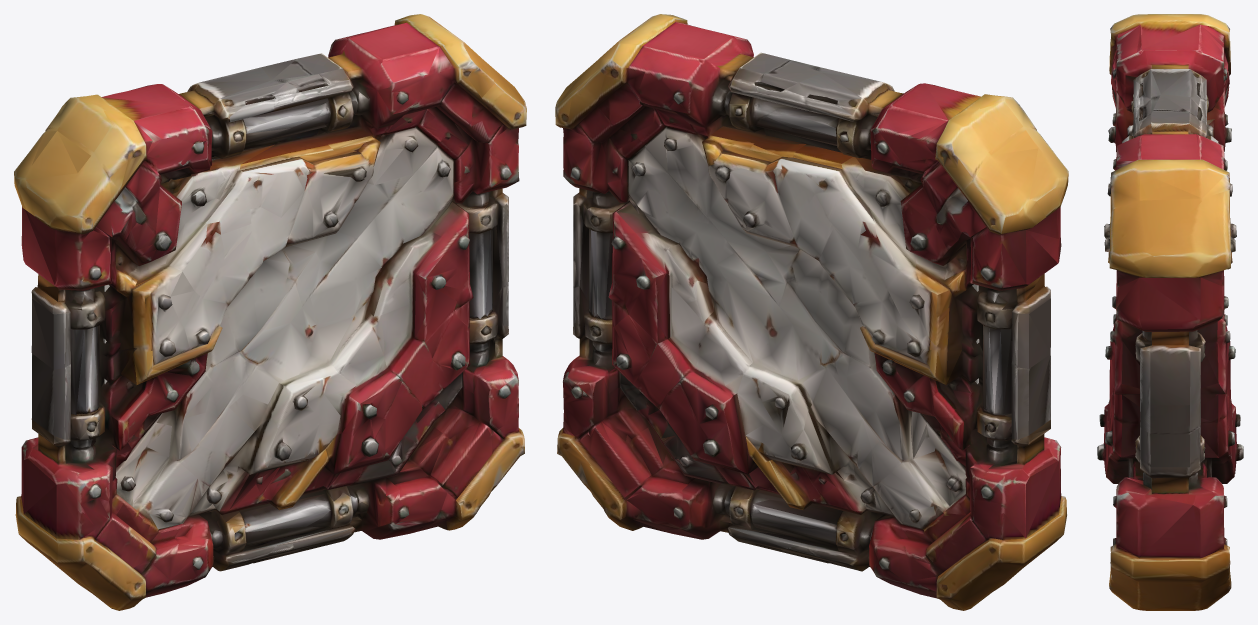
The model's file is ds_sandblade_buckler.glb.
The picture shows the model from 3 angles, left to right: view 1: azimuth 30°, elevation 25°; view 2: azimuth 150°, elevation 25°; view 3: azimuth 270°, elevation 25°; orthographic projection. The views are drawn at different scales.
Visible parts, largest first — view 1: base, corner_ul, corner_dl, corner_ur, corner_dr; view 2: base, corner_ul, corner_dl, corner_ur, corner_dr; view 3: base, corner_ur, corner_dr, corner_ul.
Part boxes in pixels (box(x1,y1,x2,y2)): base: box(21, 22, 519, 597); corner_ul: box(14, 94, 161, 242); corner_dl: box(15, 496, 169, 610); corner_ur: box(394, 14, 526, 144); corner_dr: box(413, 422, 524, 532); base: box(563, 22, 1061, 598); corner_ul: box(908, 94, 1068, 237); corner_dl: box(912, 496, 1066, 610); corner_ur: box(555, 14, 695, 142); corner_dr: box(557, 422, 669, 532); base: box(1097, 24, 1243, 558); corner_ur: box(1109, 159, 1230, 277); corner_dr: box(1109, 528, 1231, 610); corner_ul: box(1109, 14, 1230, 107).
Bounding box in the file's own units: 0.9802 × 0.9756 × 0.2908.
1 material, 1 textured.
